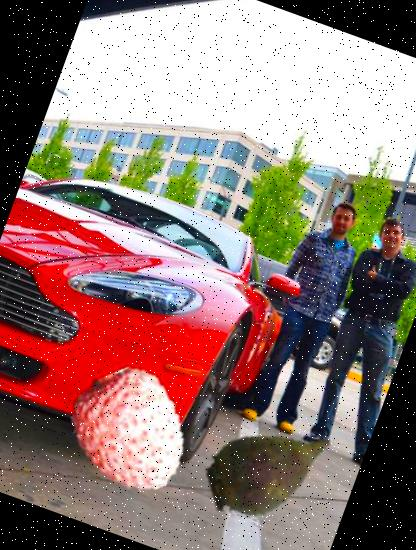Beetroot: (185, 383, 359, 550)
Lychee: (50, 354, 209, 513)
